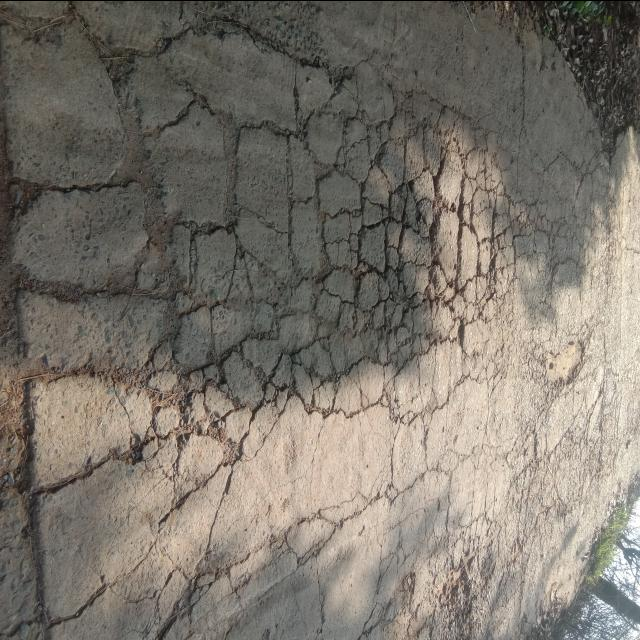cracks: (83, 79, 530, 398)
potholes: (422, 558, 480, 640), (542, 330, 590, 388)
